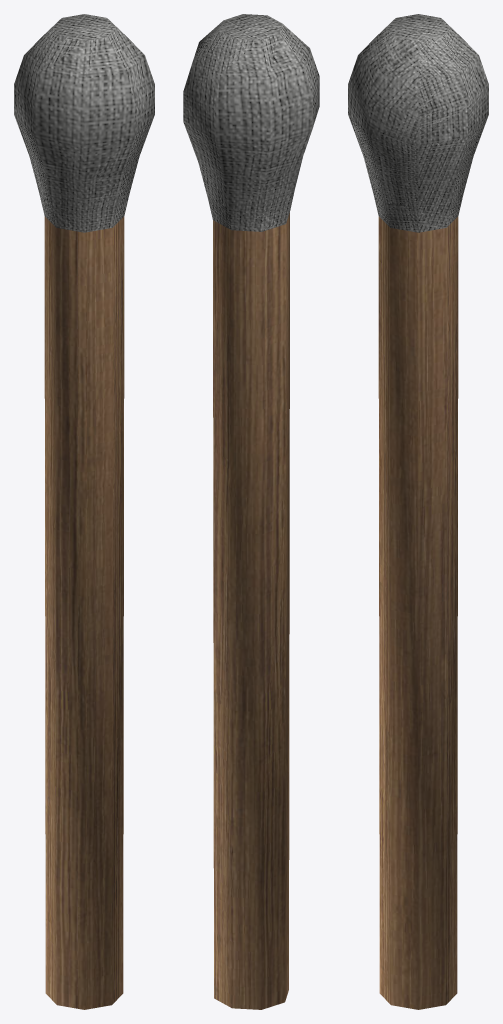
The model's file is torch.fbx.
3 renders of one model, left to right at view 1: azimuth 90°, elevation 25°; view 2: azimuth 150°, elevation 25°; view 3: azimuth 270°, elevation 25°, orthographic.
Visible parts, largest first — view 1: Cylinder.013; view 2: Cylinder.013; view 3: Cylinder.013.
Boxes of the visible parts, x1,y1,x2,y2 form: Cylinder.013: (14, 14, 154, 1009); Cylinder.013: (183, 14, 319, 1009); Cylinder.013: (348, 14, 488, 1009).
Bounding box in the file's own units: 6.7 × 6.7 × 50.67.
2 materials, 2 textured.
